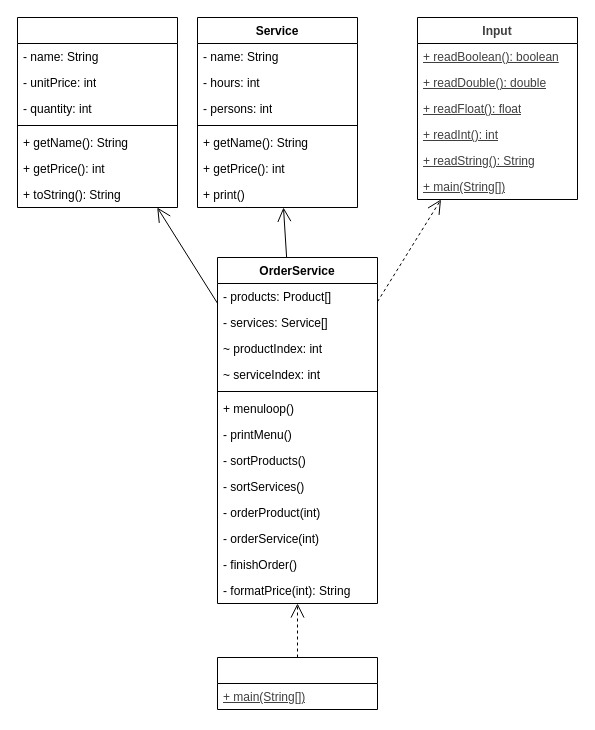
This 595x730 diagram has some shape labels left out. The shapes that lost their labels are listed below. From the top down, each one's box as (x1, y1, x2, y2) in pixels, then its label:
(16, 16, 178, 208): Product
(216, 656, 378, 710): OrderSystemMain
